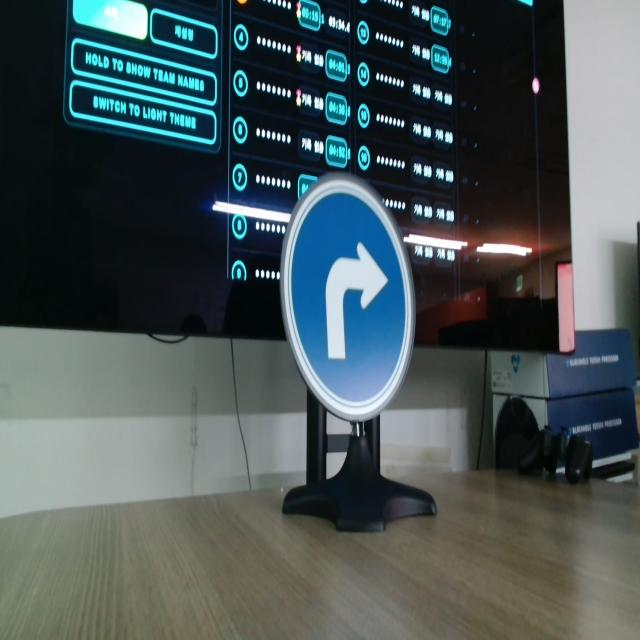right_dierection: (275, 168, 417, 424)
